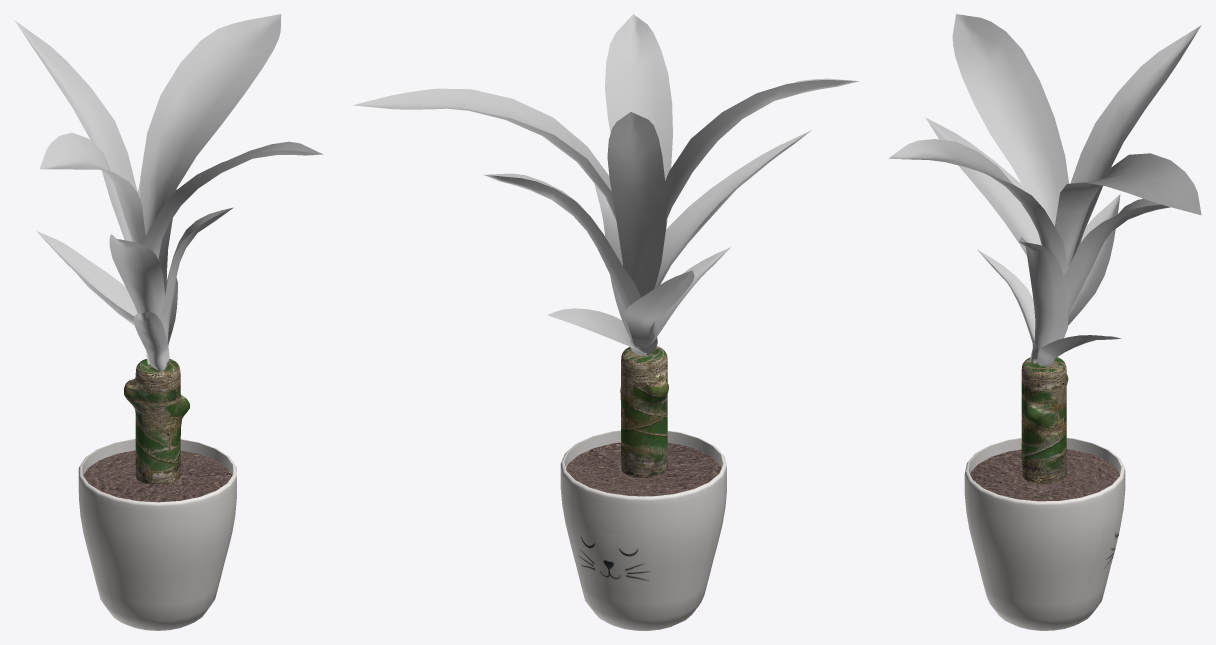
Rendered from Plant.fbx.
3 views of the same model, side by side, from view 1: azimuth 30°, elevation 25°; view 2: azimuth 150°, elevation 25°; view 3: azimuth 270°, elevation 25° (orthographic). The views are drawn at different scales.
Visible parts, largest first — view 1: Plant; view 2: Plant; view 3: Plant.
Boxes of the visible parts, box(x1,y1,x2,y2) form: Plant: box(14, 14, 323, 630); Plant: box(353, 14, 859, 630); Plant: box(888, 14, 1201, 630).
Bounding box in the file's own units: 50.81 × 73.83 × 37.71.
